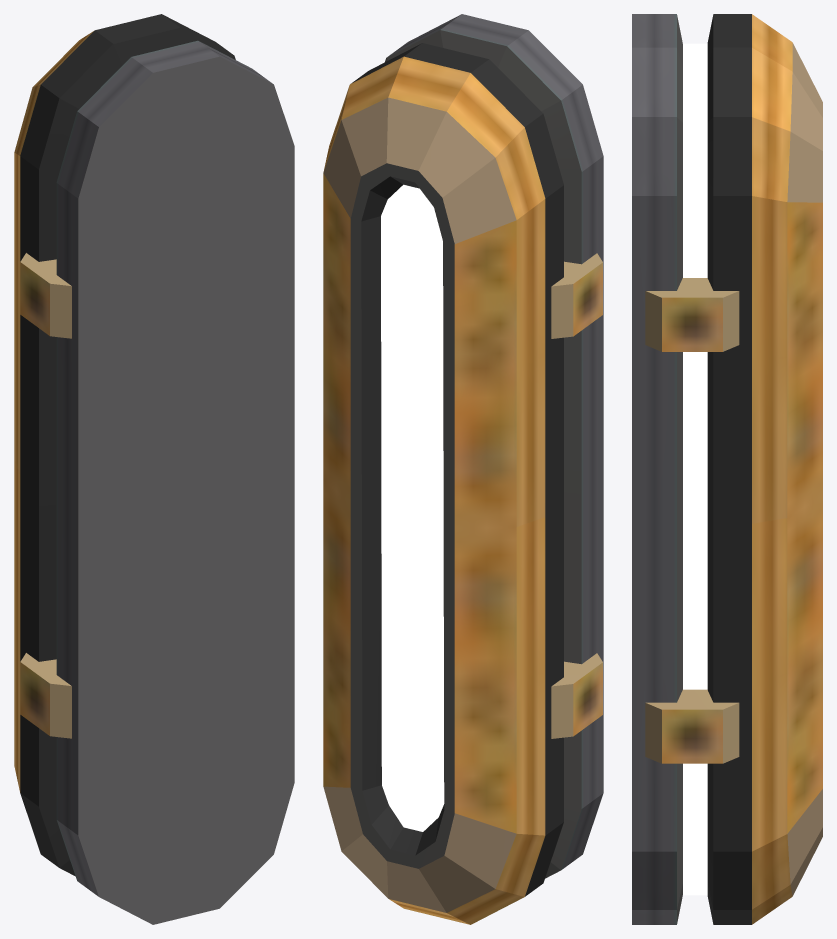
Rendered from entity758364.glb.
3 renders of one model, left to right at view 1: azimuth 30°, elevation 25°; view 2: azimuth 150°, elevation 25°; view 3: azimuth 270°, elevation 25°, orthographic. The views are drawn at different scales.
Parts seen in each view (by area): view 1: node_SM_Bld_Light_02 (2); view 2: node_SM_Bld_Light_02 (2); view 3: node_SM_Bld_Light_02 (2).
Boxes of the visible parts, bbox=[...] form: node_SM_Bld_Light_02 (2): bbox=[14, 14, 294, 924]; node_SM_Bld_Light_02 (2): bbox=[323, 14, 603, 924]; node_SM_Bld_Light_02 (2): bbox=[632, 14, 822, 924].
Size of the model in its own units: 0.4639 by 1.55 by 0.3053.
1 material, 1 textured.
